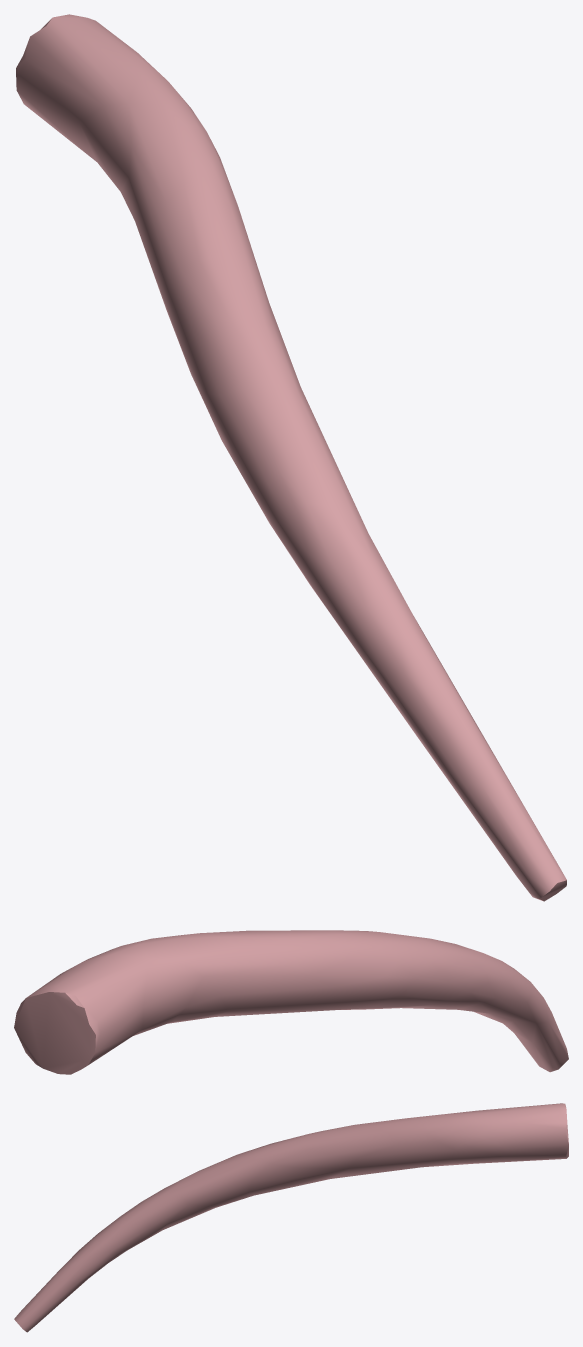
Rendered from fma68222_fj6496.glb.
The picture shows the model from 3 angles, top to bottom: view 1: azimuth 30°, elevation 25°; view 2: azimuth 150°, elevation 25°; view 3: azimuth 270°, elevation 25°; orthographic projection. The views are drawn at different scales.
Parts seen in each view (by area): view 1: FMA68222_FJ6496; view 2: FMA68222_FJ6496; view 3: FMA68222_FJ6496.
Part boxes in pixels (bbox=[...]): FMA68222_FJ6496: bbox=[16, 14, 566, 901]; FMA68222_FJ6496: bbox=[14, 930, 568, 1074]; FMA68222_FJ6496: bbox=[14, 1103, 568, 1332].
Size of the model in its own units: 0.0137 by 0.033 by 0.0694.
